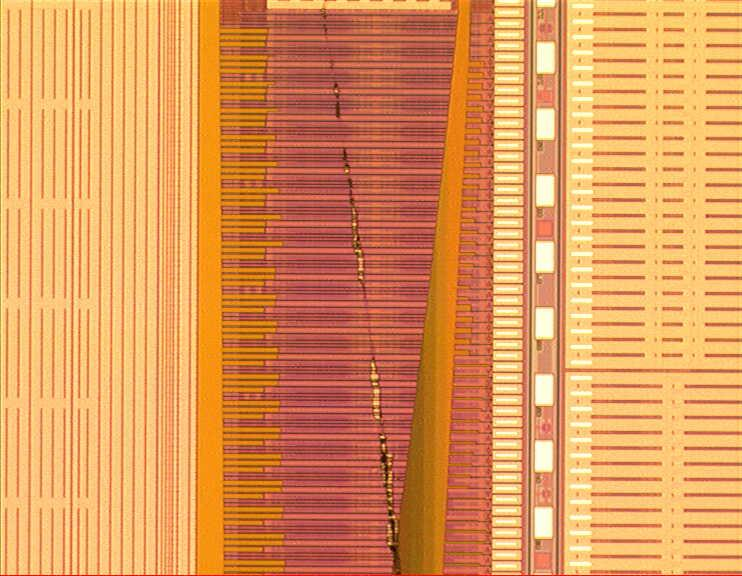SCRATCH: (316, 1, 404, 576)
